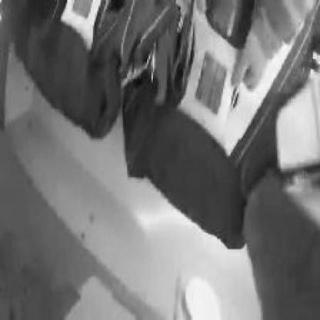other: (173, 281, 230, 315)
